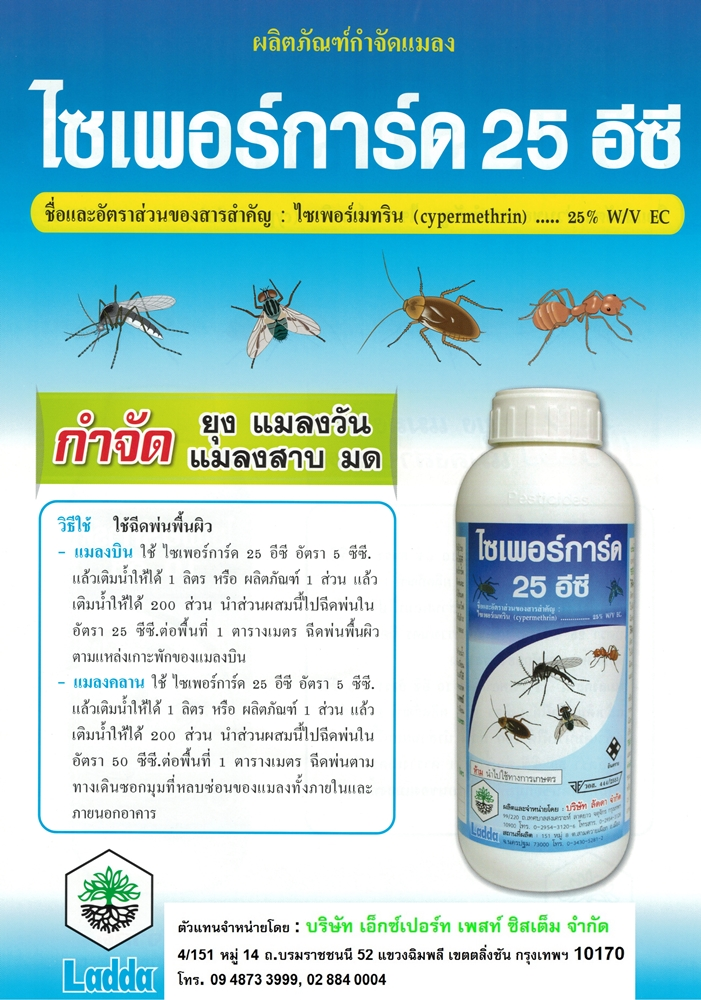Insecticide: (441, 376, 645, 905)
